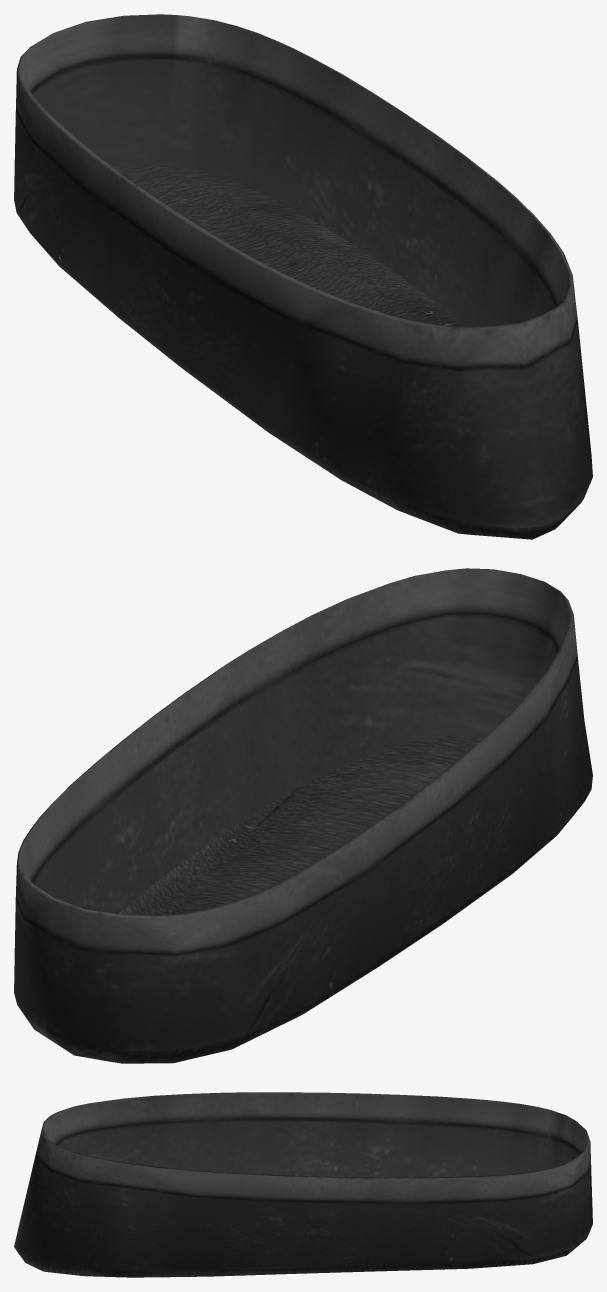
The model's file is Rifle_RecoilPad.fbx.
3 renders of one model, top to bottom at view 1: azimuth 30°, elevation 25°; view 2: azimuth 150°, elevation 25°; view 3: azimuth 270°, elevation 25°, orthographic. The views are drawn at different scales.
Parts seen in each view (by area): view 1: RecoilPad; view 2: RecoilPad; view 3: RecoilPad.
Part boxes in pixels (x1=…): RecoilPad: x1=14, y1=14, x2=592, y2=539; RecoilPad: x1=14, y1=568, x2=592, y2=1063; RecoilPad: x1=14, y1=1092, x2=592, y2=1277.
Size of the model in its own units: 0.0296 by 0.0207 by 0.0827.
